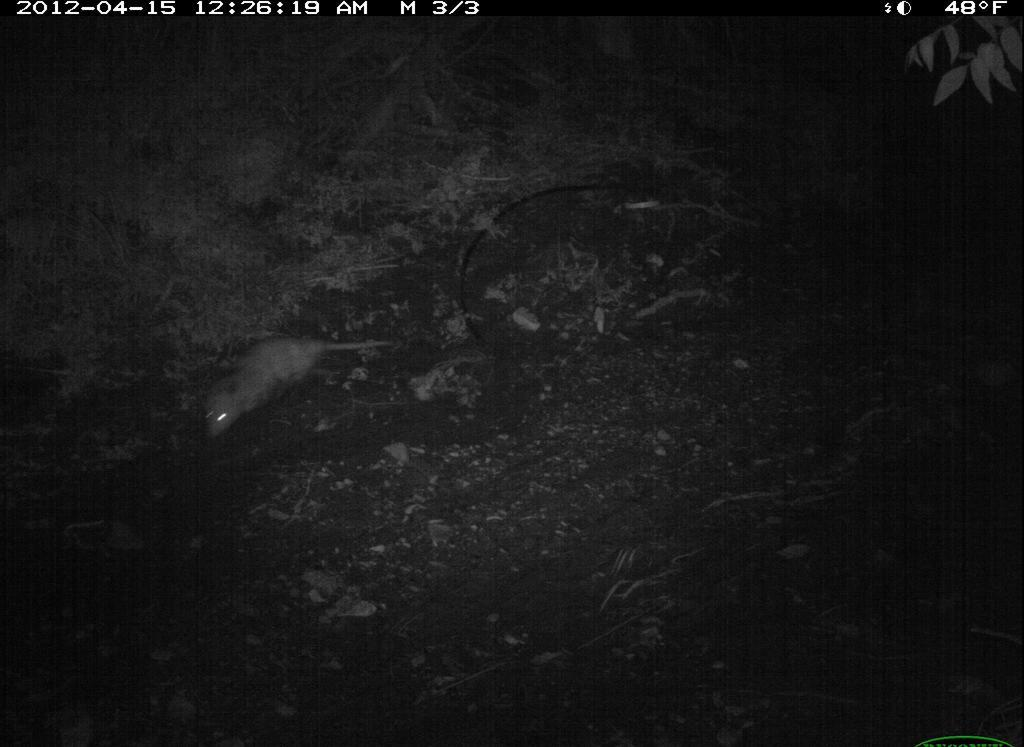opossum: (199, 321, 395, 446)
